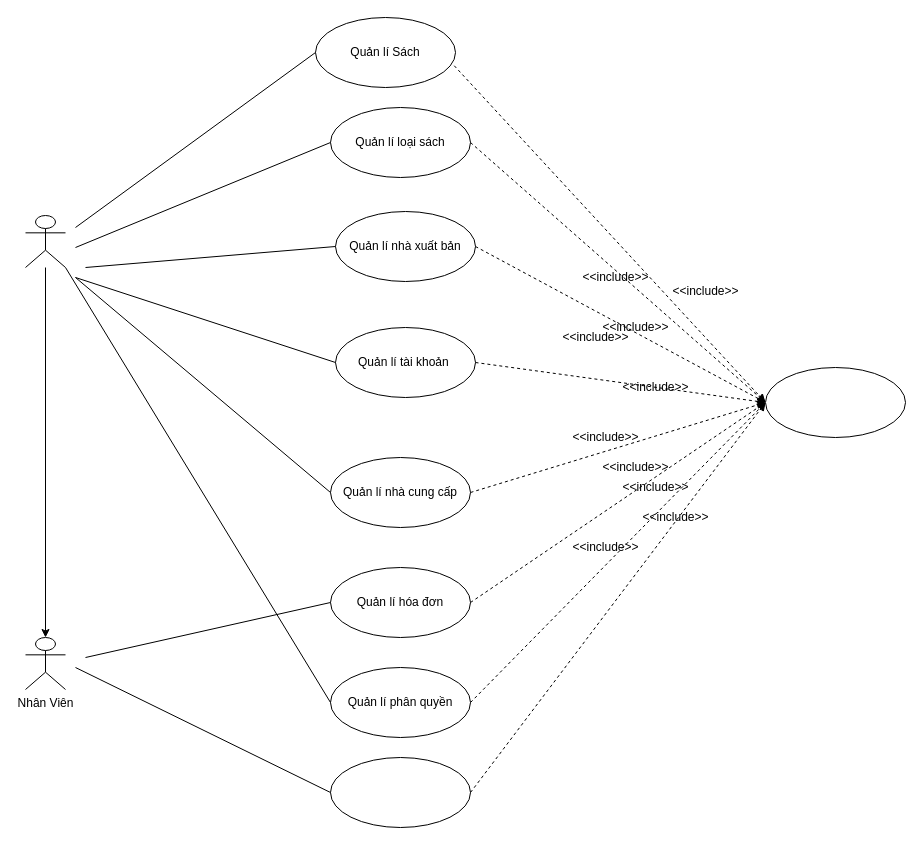
Image size: 923x845. Some labels were removed from this diagram. The centre of each missing label's shape, as x and y in pixels:
"Admin" belongs at (45,241).
"Quản lí phản hồi" belongs at (400,792).
"Đăng Nhập" belongs at (835,402).
